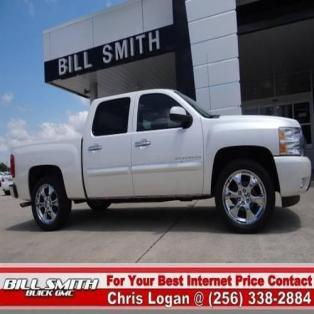Auto: (7, 86, 312, 234)
